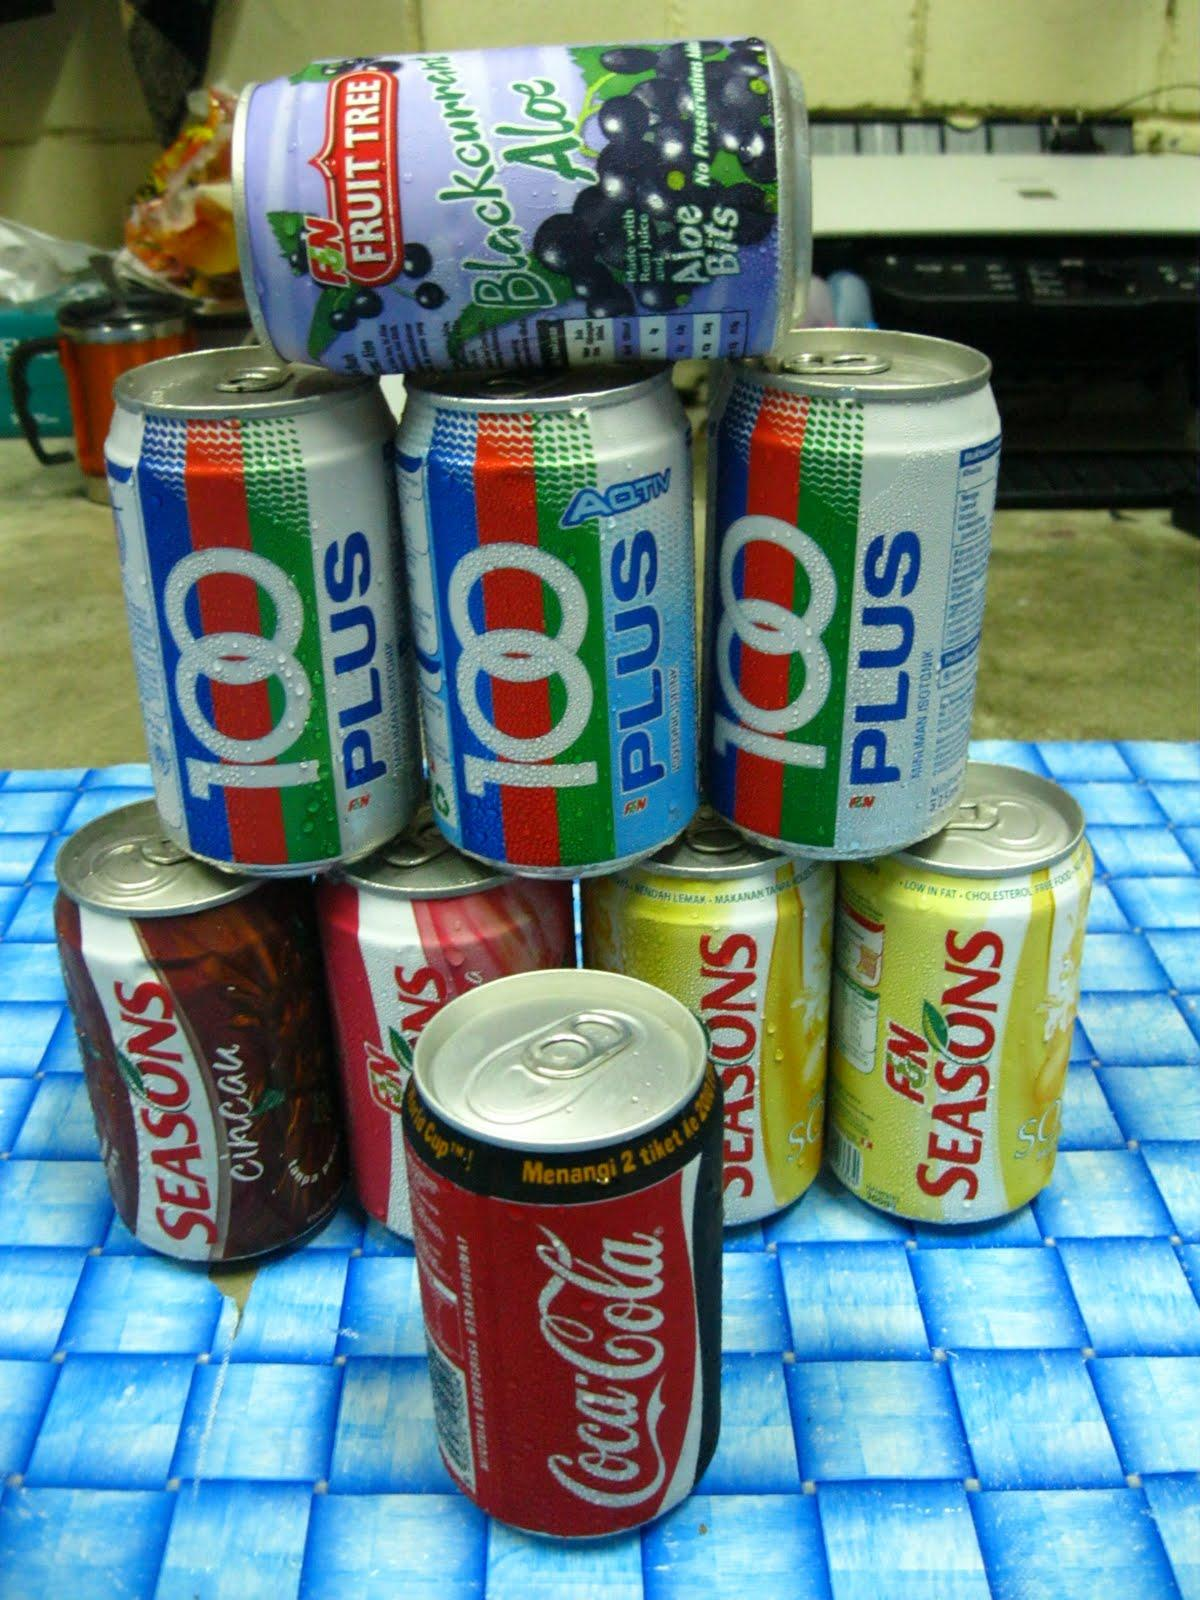metal: (84, 343, 1022, 876), (40, 805, 1093, 1262), (226, 25, 816, 375), (387, 965, 735, 1542)
